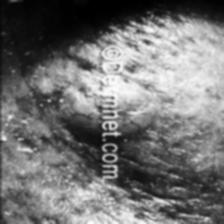Potentially Malignant Skin Tumors: (38, 5, 218, 215)
